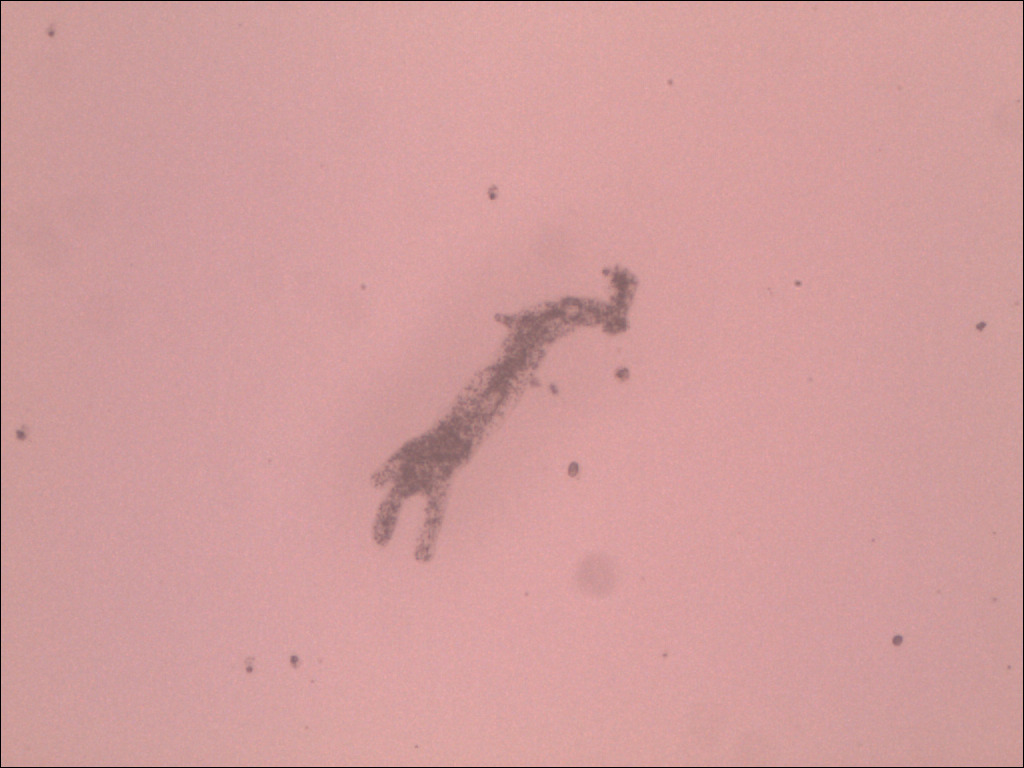amoeba: (355, 257, 648, 569)
